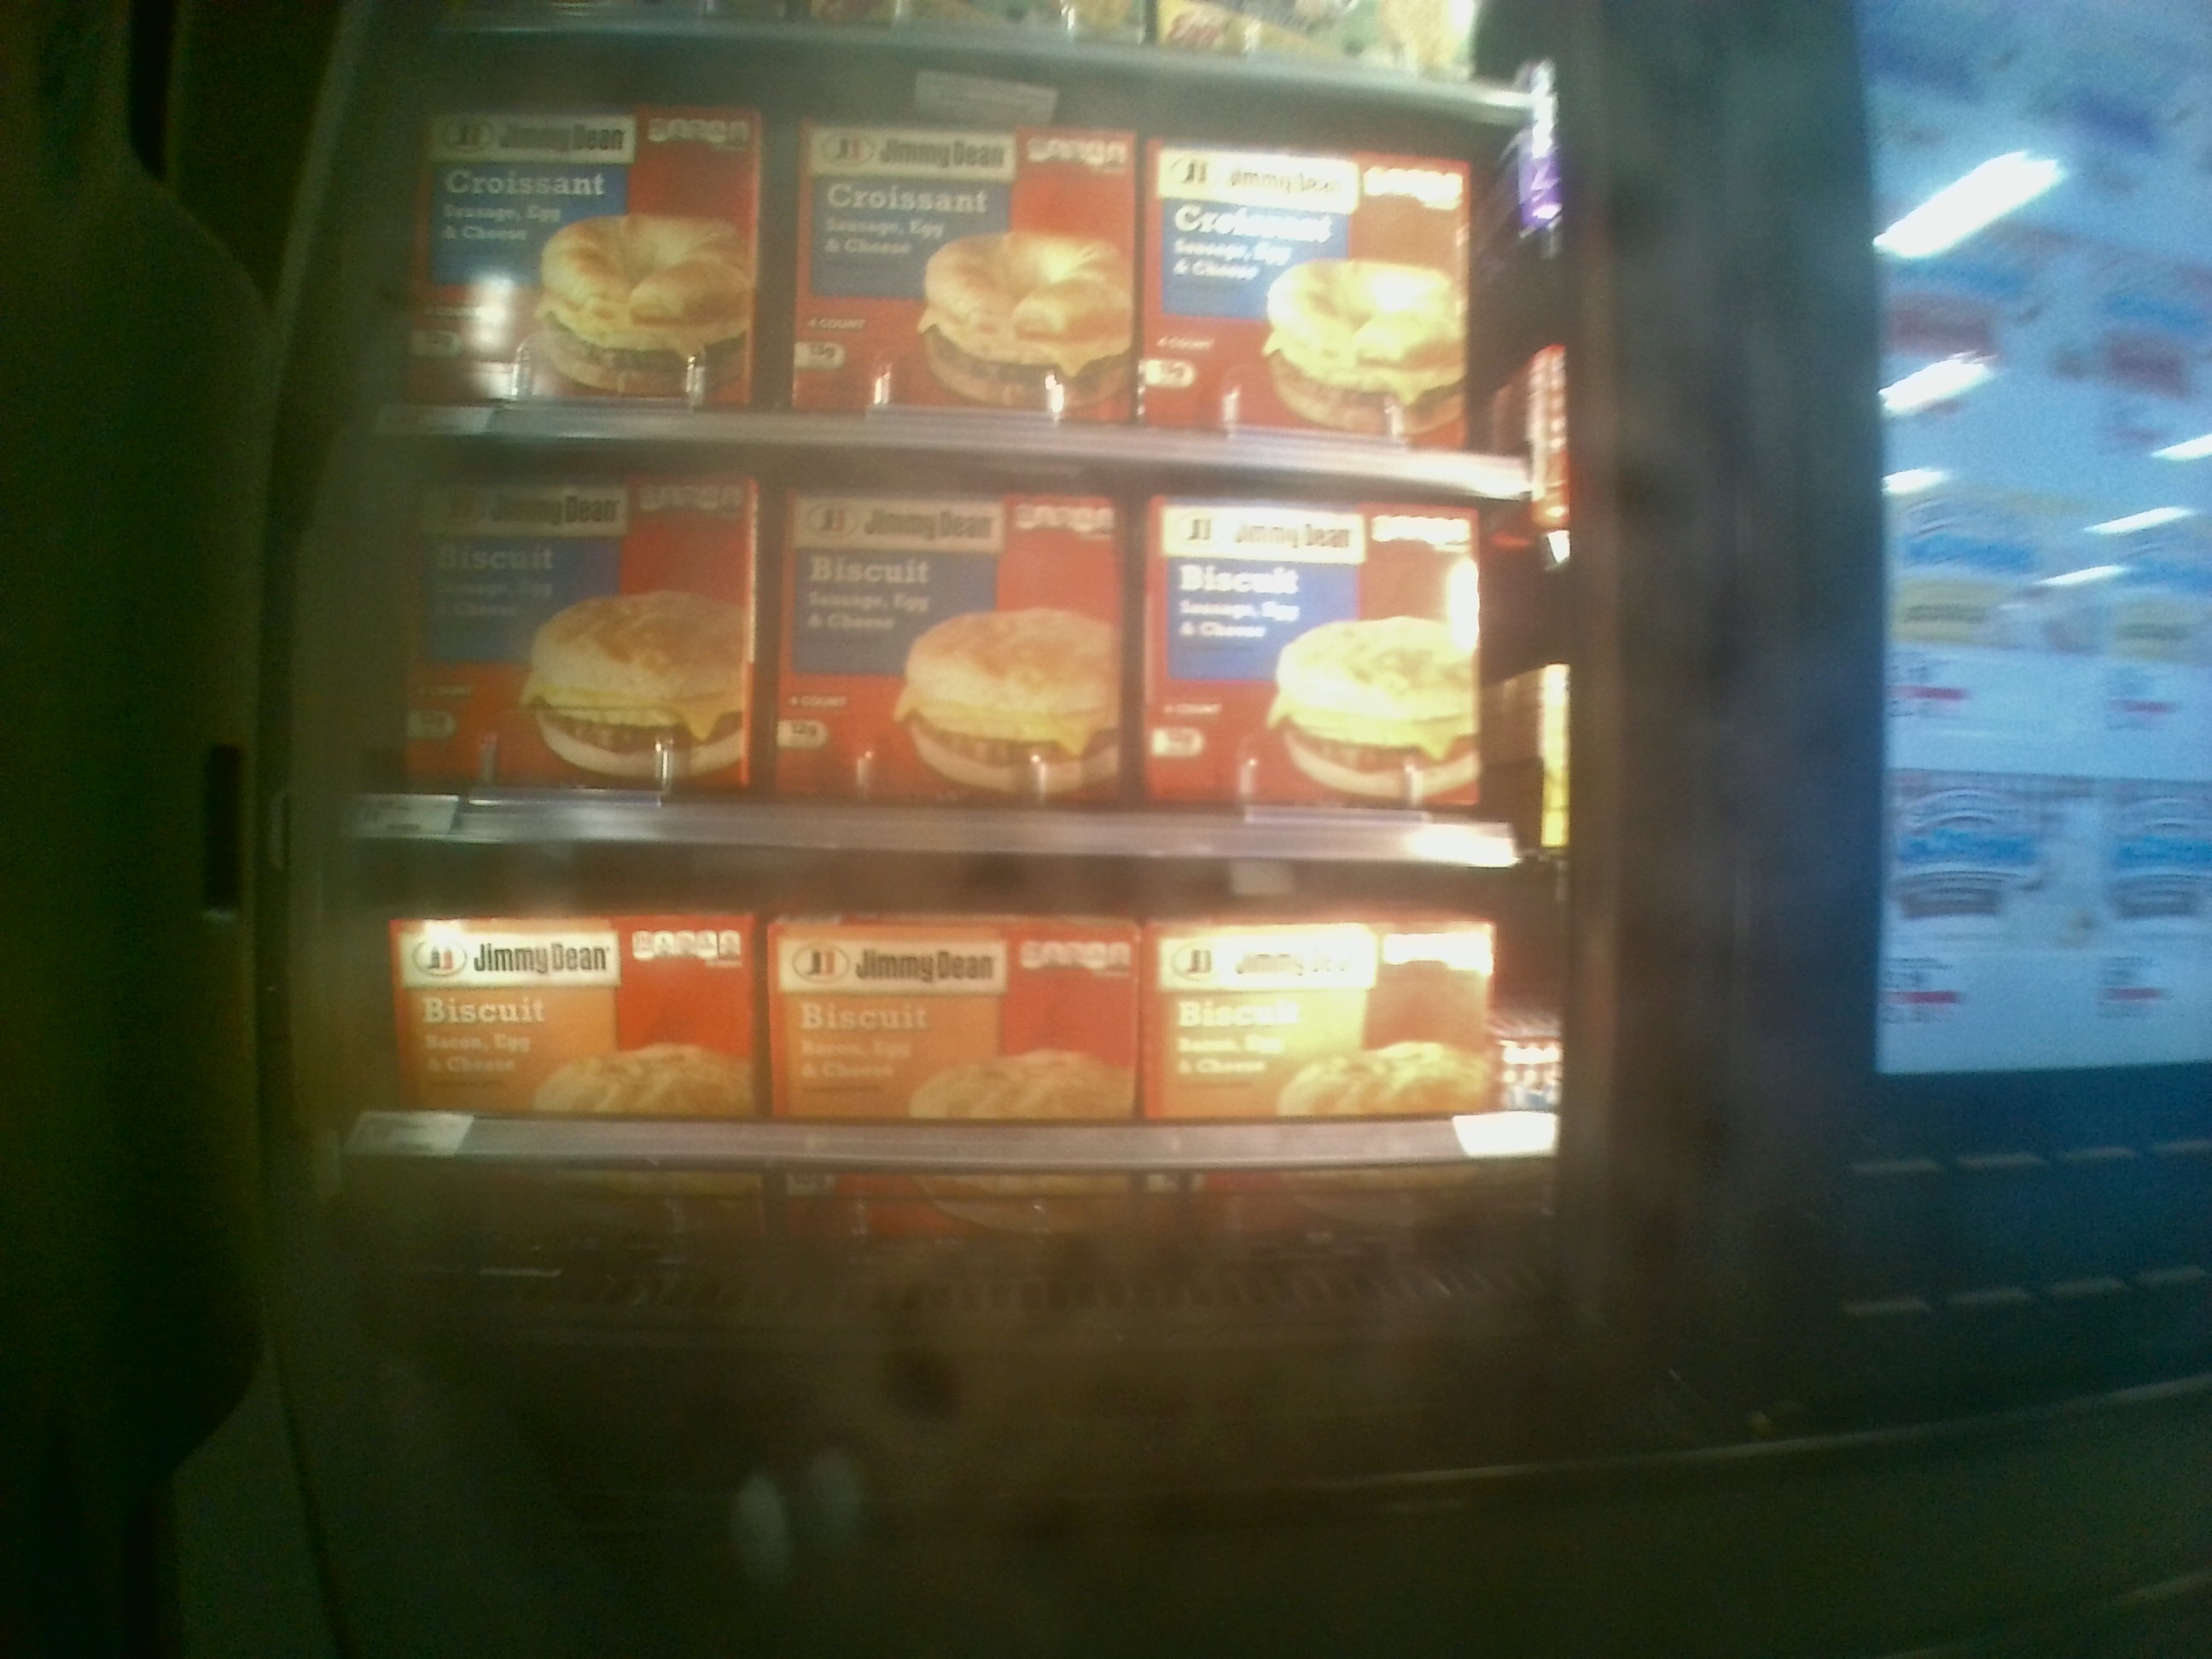shelf: (340, 843, 1571, 1368), (350, 425, 1545, 864)
